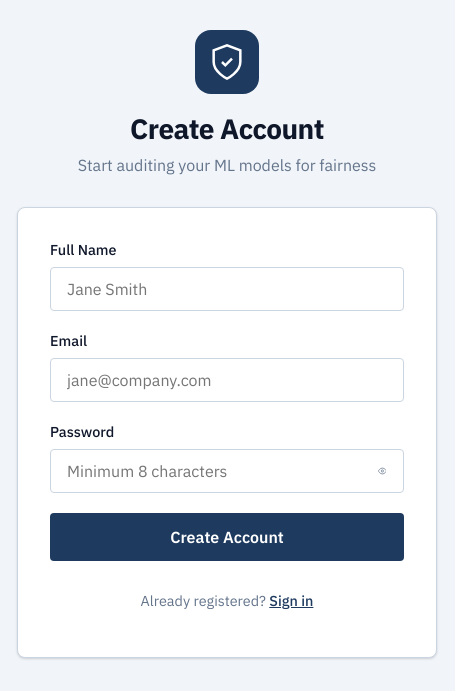
Test: RegisterPage › shows error message on failed registration
Type "Test User" into the field labelled "Full Name" at coordinates (227, 289), box [50,267,404,311]
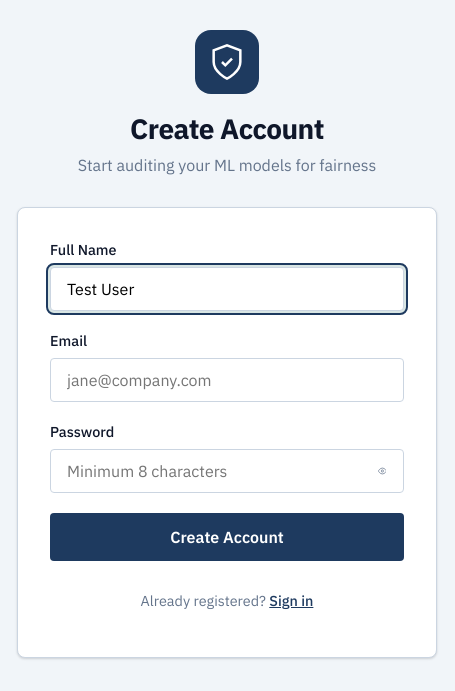
Type "test@example.com" into the field labelled "Email" at coordinates (227, 380), box [50,358,404,402]
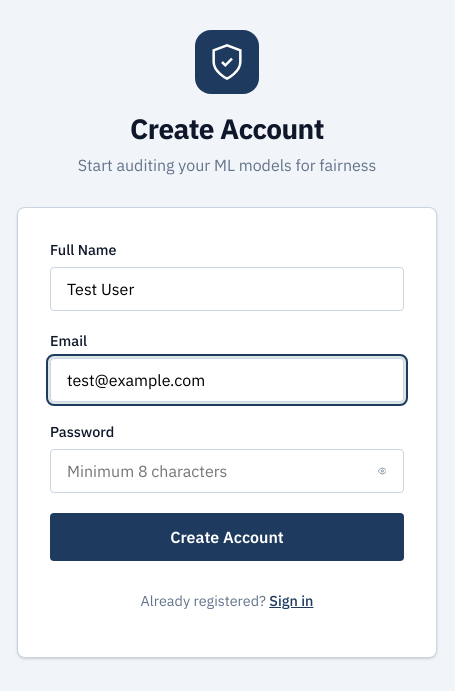
Type "password123" into the password field labelled "Password" at coordinates (227, 471), box [50,449,404,493]
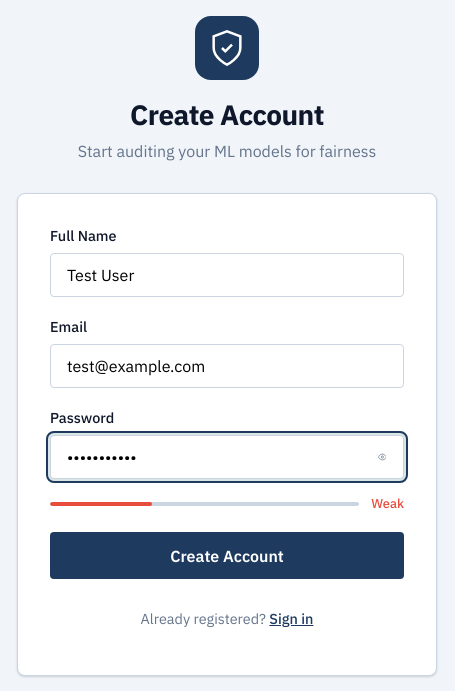
Click the button "Create Account" at coordinates (227, 556), box [50,532,404,579]
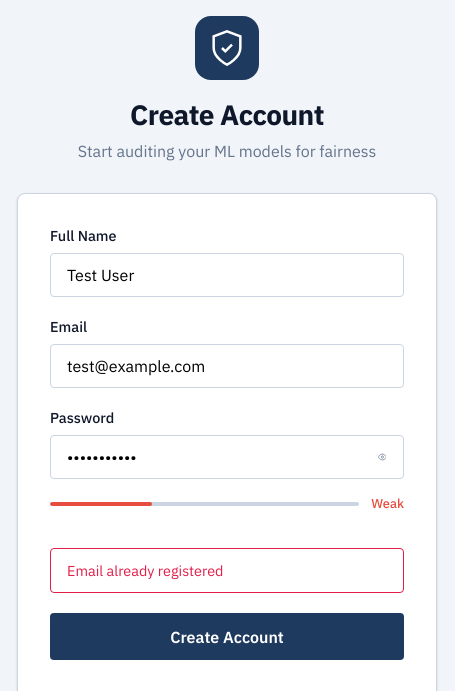
Check: the text "Email already registered" is shown, box [50,548,404,593]
